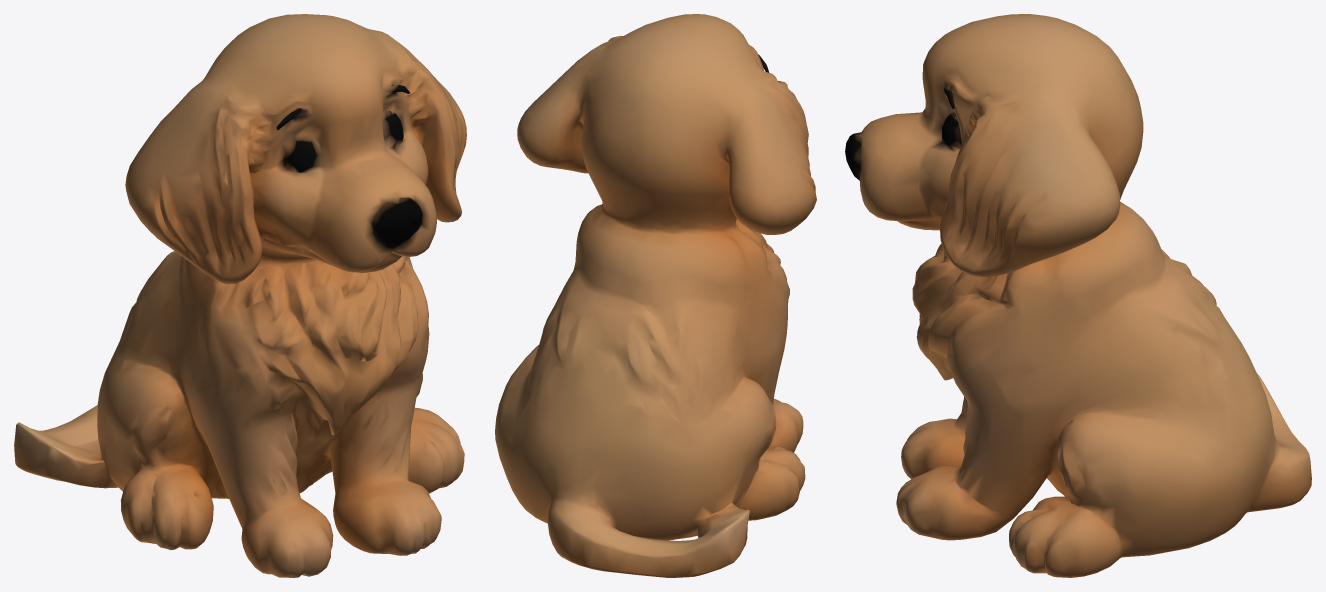
The model's file is cachorro.glb.
The picture shows the model from 3 angles, left to right: view 1: azimuth 30°, elevation 25°; view 2: azimuth 150°, elevation 25°; view 3: azimuth 270°, elevation 25°; orthographic projection. The views are drawn at different scales.
Parts seen in each view (by area): view 1: Cachorro; view 2: Cachorro; view 3: Cachorro.
Boxes of the visible parts, left/top/right/bottom form: Cachorro: left=14, top=14, right=466, bottom=577; Cachorro: left=495, top=14, right=816, bottom=577; Cachorro: left=845, top=14, right=1311, bottom=577.
Bounding box in the file's own units: 0.7208 × 1 × 0.8752.
